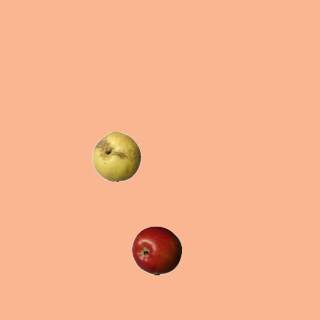Apple Braeburn: (131, 225, 181, 275)
Apple Golden 1: (91, 131, 141, 181)
